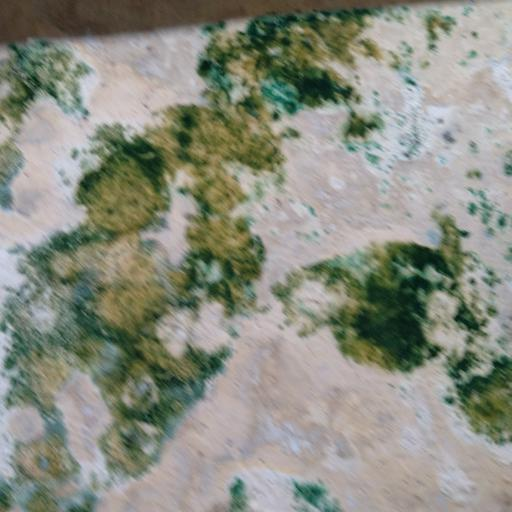algae: (11, 0, 511, 467)
